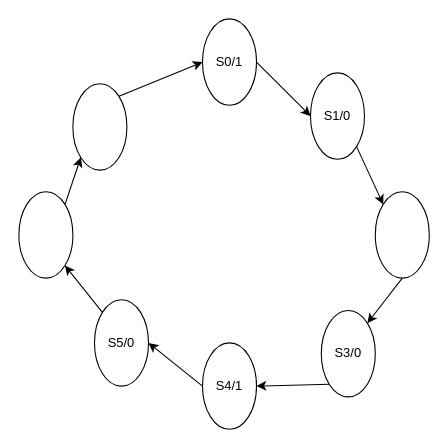
Image size: 448x448. Some labels were removed from this diagram. The shapes that lost their labels are listed below. From the top down, each one's box as (x1, y1, x2, y2) in pixels, then its label:
(72, 83, 127, 170): S7/0
(18, 191, 73, 278): S6/1
(374, 191, 429, 278): S2/1
